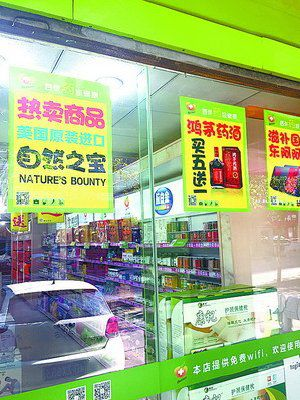bill: (9, 68, 113, 215), (154, 286, 288, 400), (180, 95, 251, 213), (263, 109, 300, 210)
